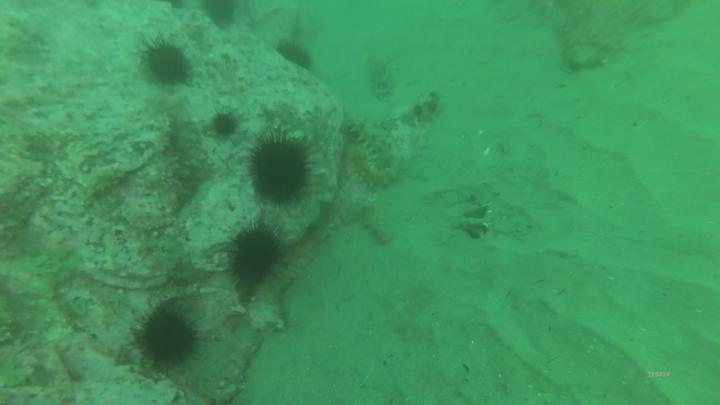echinus: (245, 130, 314, 208), (126, 306, 204, 375), (225, 222, 288, 291), (139, 38, 194, 92), (273, 38, 316, 75), (202, 1, 239, 32), (210, 110, 241, 141)
holothurian: (247, 227, 332, 307), (195, 347, 266, 405), (556, 19, 627, 73), (340, 113, 401, 175), (342, 139, 397, 194), (355, 203, 400, 249), (365, 55, 400, 101)
